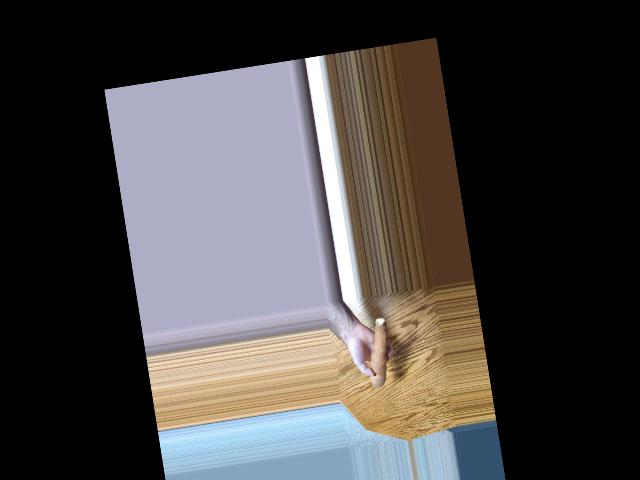sweet_potato: (365, 314, 394, 391)
